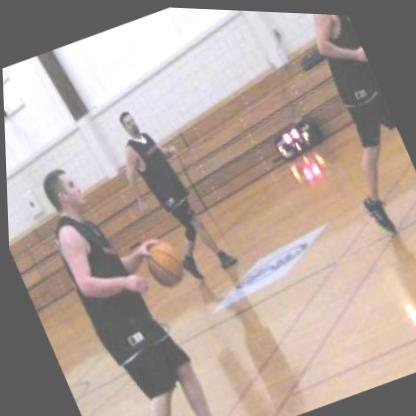basketball: (125, 227, 192, 296)
